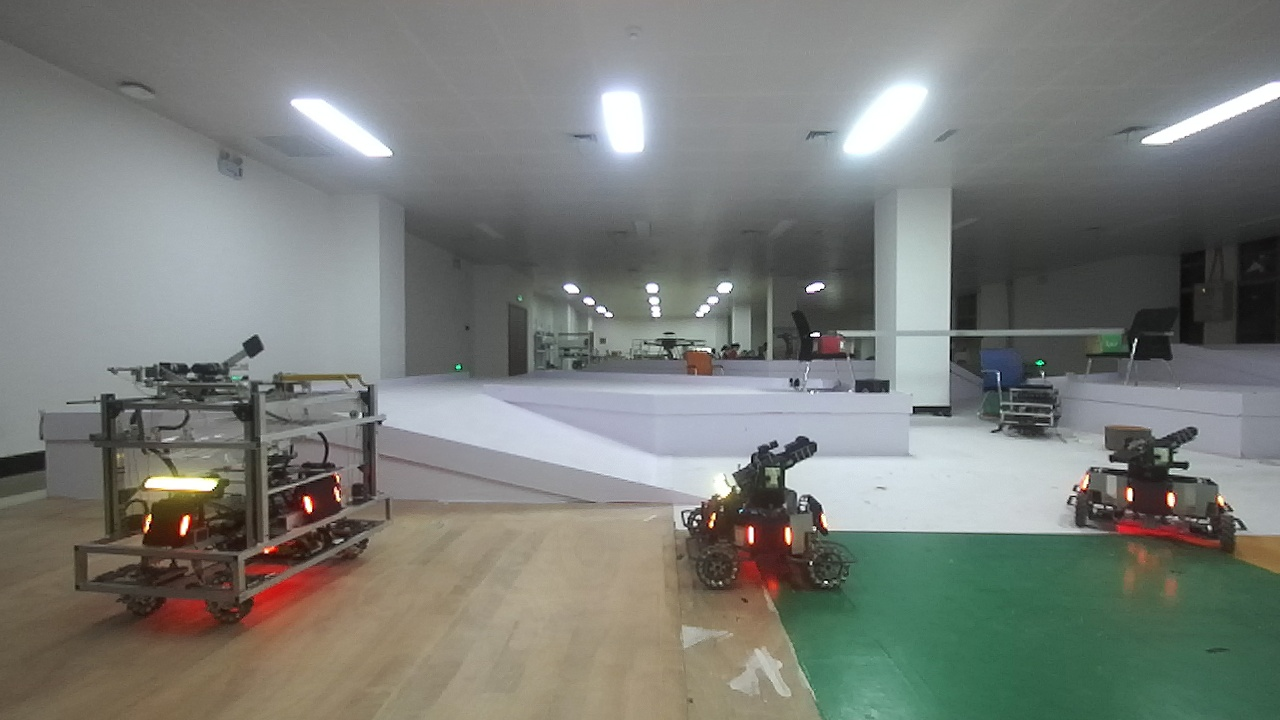car: (73, 360, 405, 623), (683, 427, 861, 600), (1066, 415, 1250, 539)
